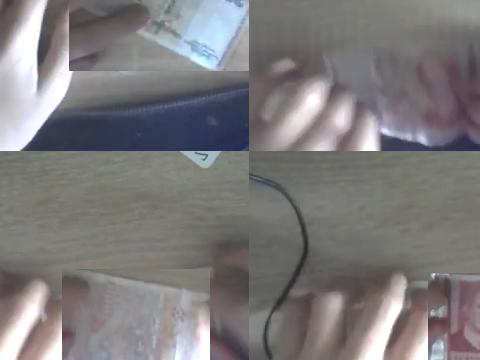5leva: (62, 269, 205, 360), (428, 273, 480, 360)
